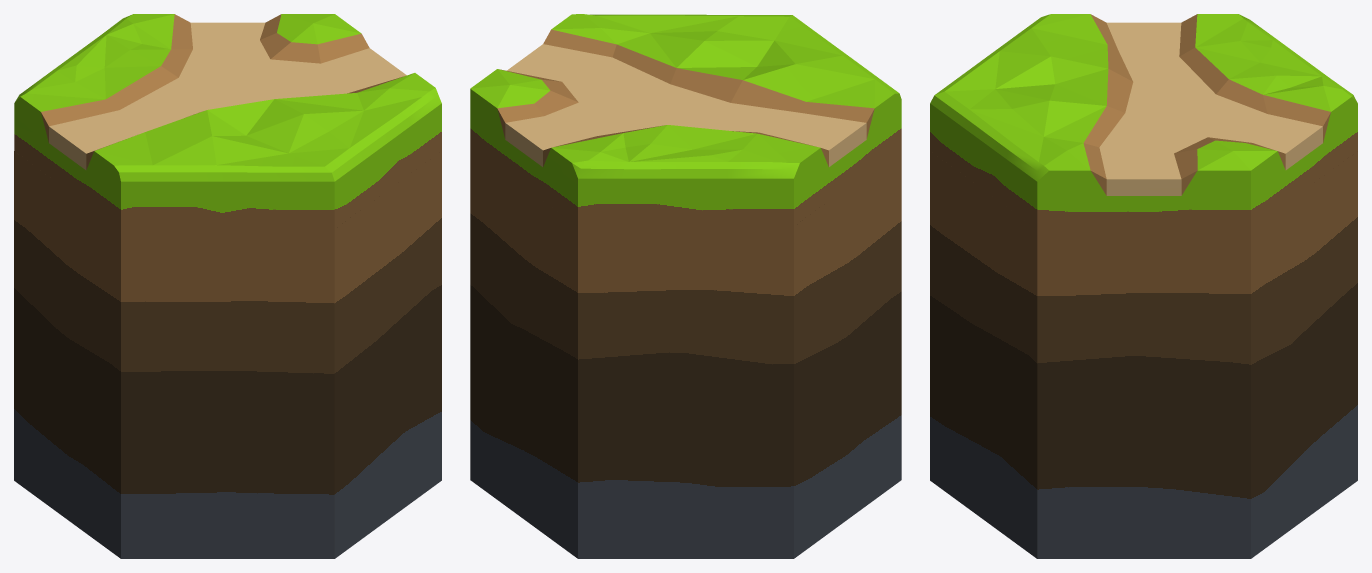
Rendered from HexTilePath_Y1_v1.glb.
3 renders of one model, left to right at view 1: azimuth 30°, elevation 25°; view 2: azimuth 150°, elevation 25°; view 3: azimuth 270°, elevation 25°, orthographic.
Visible parts, largest first — view 1: SM_Tile_Hex_Path_05; view 2: SM_Tile_Hex_Path_05; view 3: SM_Tile_Hex_Path_05.
Part boxes in pixels (box(x1,y1,x2,y2)): SM_Tile_Hex_Path_05: box(14, 14, 441, 558); SM_Tile_Hex_Path_05: box(470, 14, 901, 558); SM_Tile_Hex_Path_05: box(930, 14, 1357, 558).
Size of the model in its own units: 1.73 by 2.03 by 2.
Materials: 1 (1 with a texture image).
